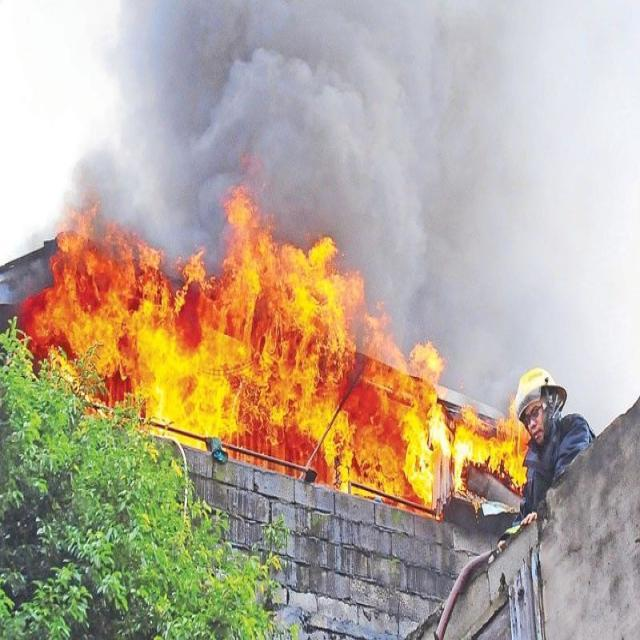Fire: (38, 210, 524, 503)
Smoke: (120, 1, 475, 238)
